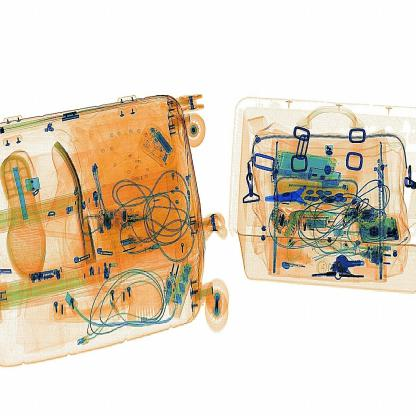gun: (261, 168, 332, 224)
